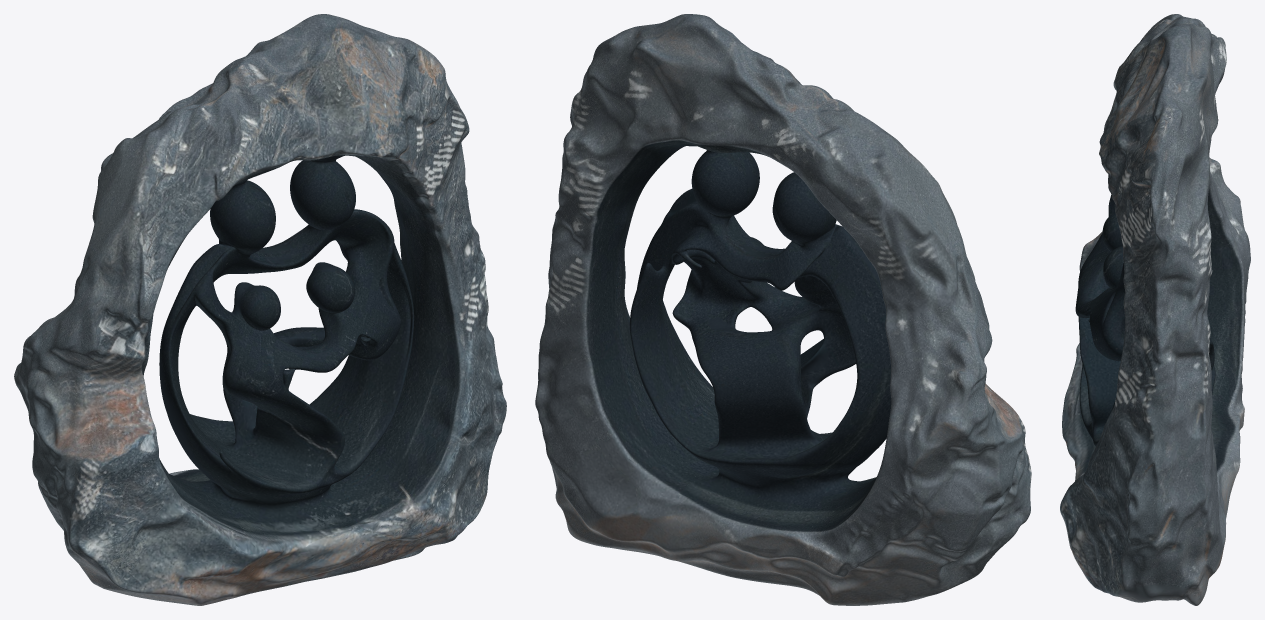
The model's file is family-uploaded-v1.glb.
3 views of the same model, side by side, from view 1: azimuth 30°, elevation 25°; view 2: azimuth 150°, elevation 25°; view 3: azimuth 270°, elevation 25° (orthographic). The views are drawn at different scales.
Bounding box in the file's own units: 1.7 × 1.9 × 0.62.
1 material, 1 textured.
